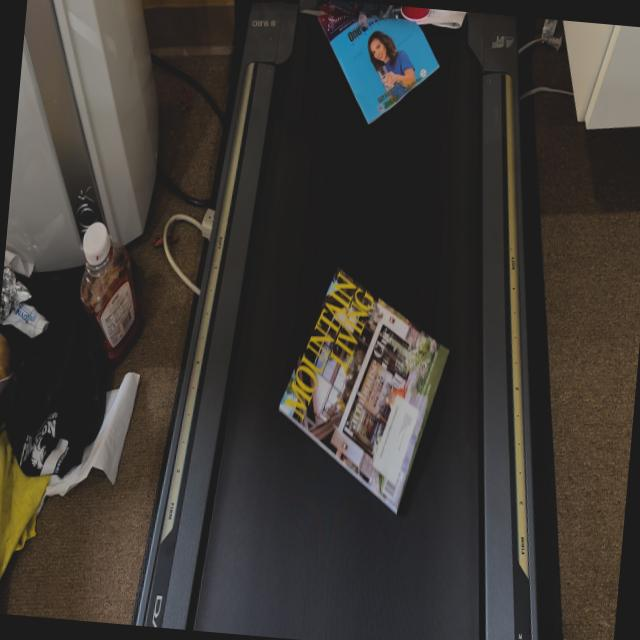Trash: (272, 257, 466, 538), (312, 9, 458, 127)
